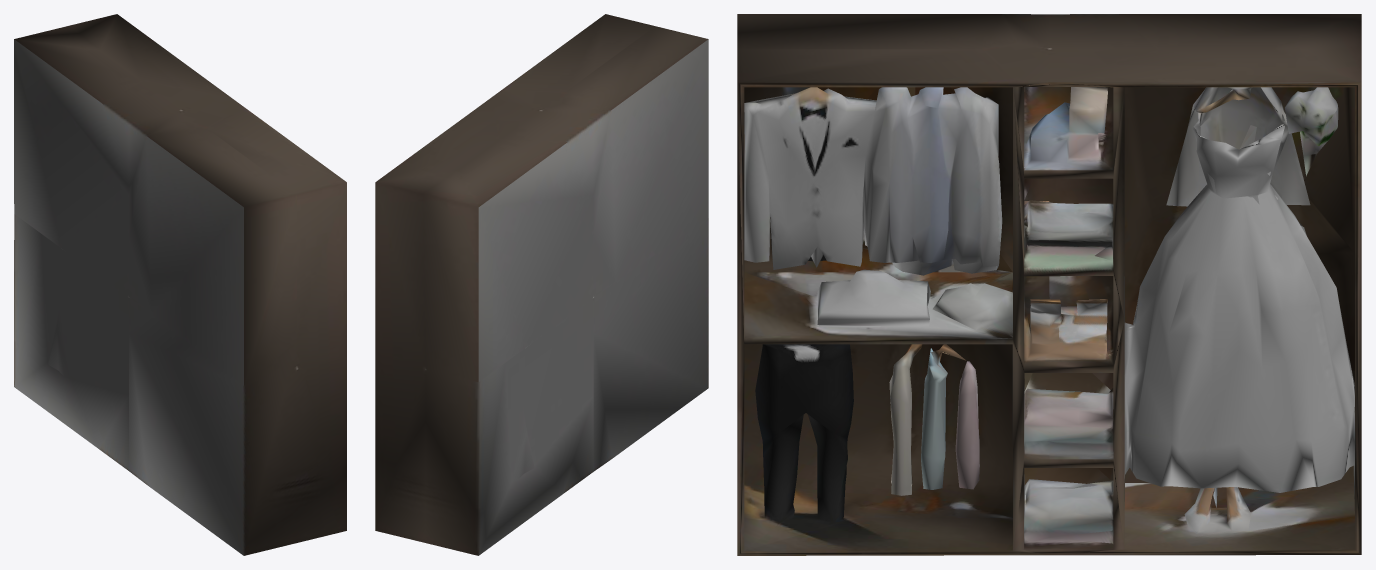
The model's file is armario boda.fbx.
The picture shows the model from 3 angles, left to right: view 1: azimuth 30°, elevation 25°; view 2: azimuth 150°, elevation 25°; view 3: azimuth 270°, elevation 25°; orthographic projection. The views are drawn at different scales.
Visible parts, largest first — view 1: tripo_node_cc0363d1; view 2: tripo_node_cc0363d1; view 3: tripo_node_cc0363d1.
Boxes of the visible parts, <box> form: tripo_node_cc0363d1: <box>14,14,346,555</box>; tripo_node_cc0363d1: <box>375,14,708,555</box>; tripo_node_cc0363d1: <box>737,14,1361,555</box>.
Size of the model in its own units: 0.2778 by 0.8371 by 0.9996.
1 material, 1 textured.
